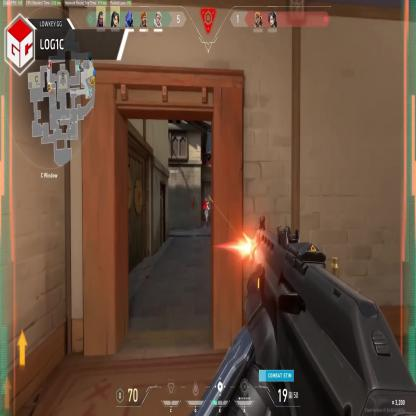enemy: (203, 196, 209, 228)
enemy_head: (205, 197, 208, 204)
